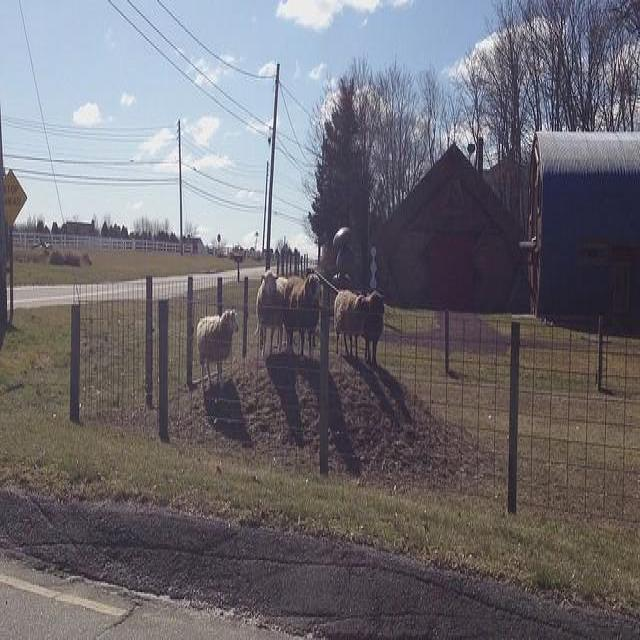Sheep: (197, 309, 240, 393), (283, 274, 320, 361), (335, 295, 369, 361)
